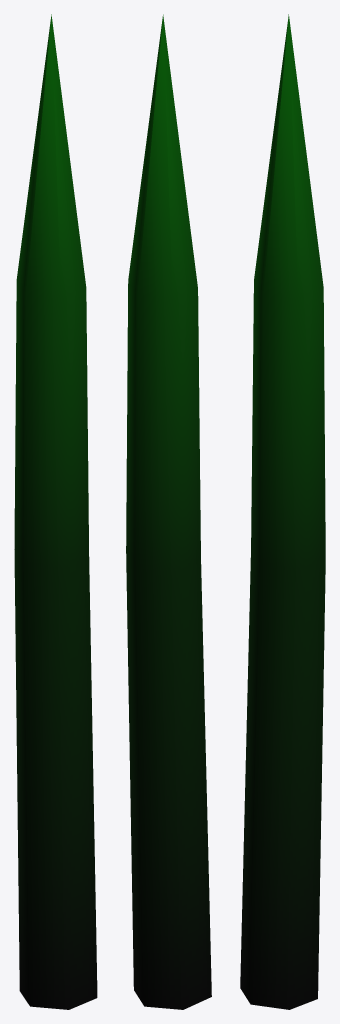
Rendered from small_bush_trunk.obj.
3 views of the same model, side by side, from view 1: azimuth 90°, elevation 25°; view 2: azimuth 150°, elevation 25°; view 3: azimuth 330°, elevation 25° (orthographic).
Parts seen in each view (by area): view 1: Bush; view 2: Bush; view 3: Bush.
Boxes of the visible parts, x1,y1,x2,y2 form: Bush: (14, 14, 97, 1009); Bush: (126, 14, 211, 1009); Bush: (240, 14, 325, 1009).
Bounding box in the file's own units: 0.2062 × 2.68 × 0.2062.
